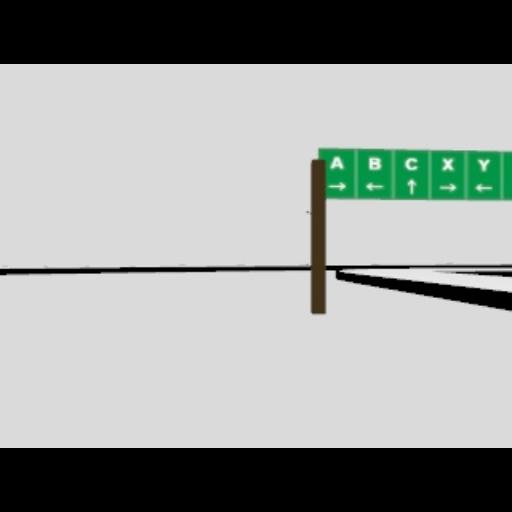A: (328, 155, 344, 169)
B: (368, 155, 380, 169)
C: (403, 156, 417, 170)
Left: (364, 181, 384, 191), (474, 184, 494, 192)
Right: (326, 181, 346, 191), (438, 183, 456, 191)
Straight: (406, 178, 416, 194)
X: (442, 156, 454, 170)
Y: (476, 157, 490, 171)
